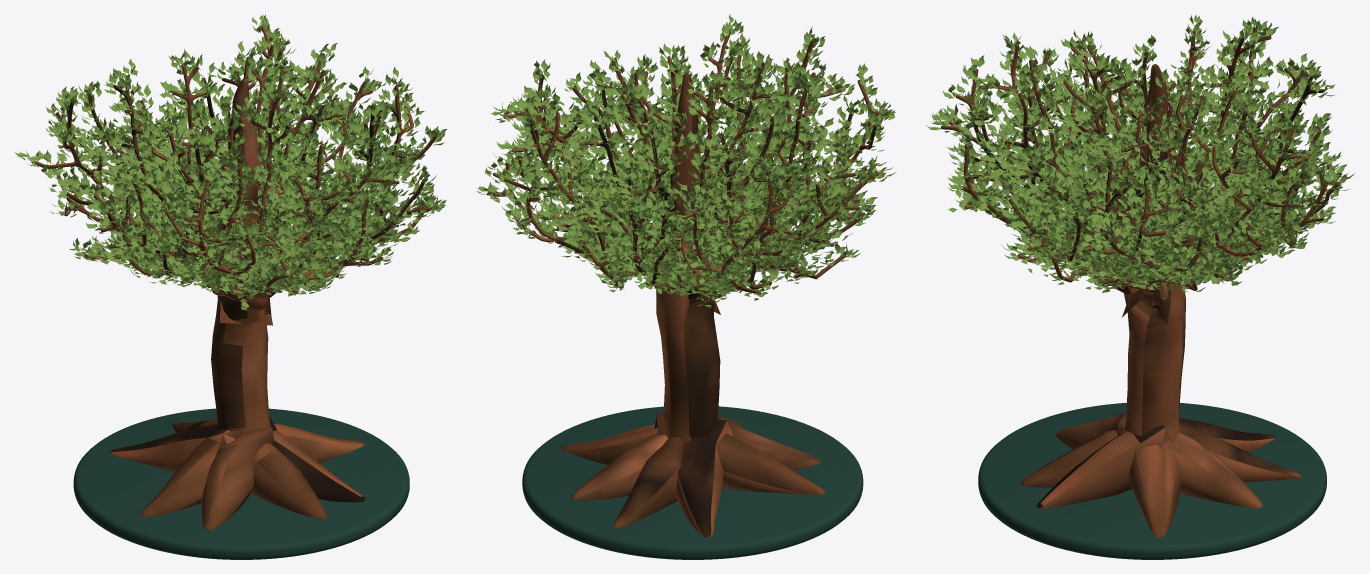
Rendered from allam_tree_master_v2.glb.
3 views of the same model, side by side, from view 1: azimuth 30°, elevation 25°; view 2: azimuth 150°, elevation 25°; view 3: azimuth 270°, elevation 25° (orthographic). The views are drawn at different scales.
Visible parts, largest first — view 1: Canopy_Leaves_Batched, Allam_Master_Heritage_Tree, Plinth_ObsidianMarble; view 2: Canopy_Leaves_Batched, Allam_Master_Heritage_Tree, Plinth_ObsidianMarble; view 3: Canopy_Leaves_Batched, Allam_Master_Heritage_Tree, Plinth_ObsidianMarble.
Boxes of the visible parts, x1,y1,x2,y2 form: Canopy_Leaves_Batched: (15, 15, 446, 310); Allam_Master_Heritage_Tree: (31, 25, 437, 529); Plinth_ObsidianMarble: (73, 408, 409, 559); Canopy_Leaves_Batched: (476, 14, 895, 307); Allam_Master_Heritage_Tree: (492, 29, 888, 537); Plinth_ObsidianMarble: (522, 406, 863, 559); Canopy_Leaves_Batched: (926, 15, 1354, 298); Allam_Master_Heritage_Tree: (941, 27, 1339, 537); Plinth_ObsidianMarble: (978, 403, 1326, 559).
Bounding box in the file's own units: 4.32 × 5.11 × 4.39.
Materials: 3 (2 with a texture image).
